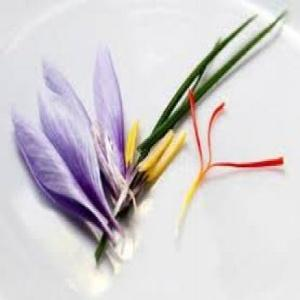Saffron: (8, 45, 135, 229)
